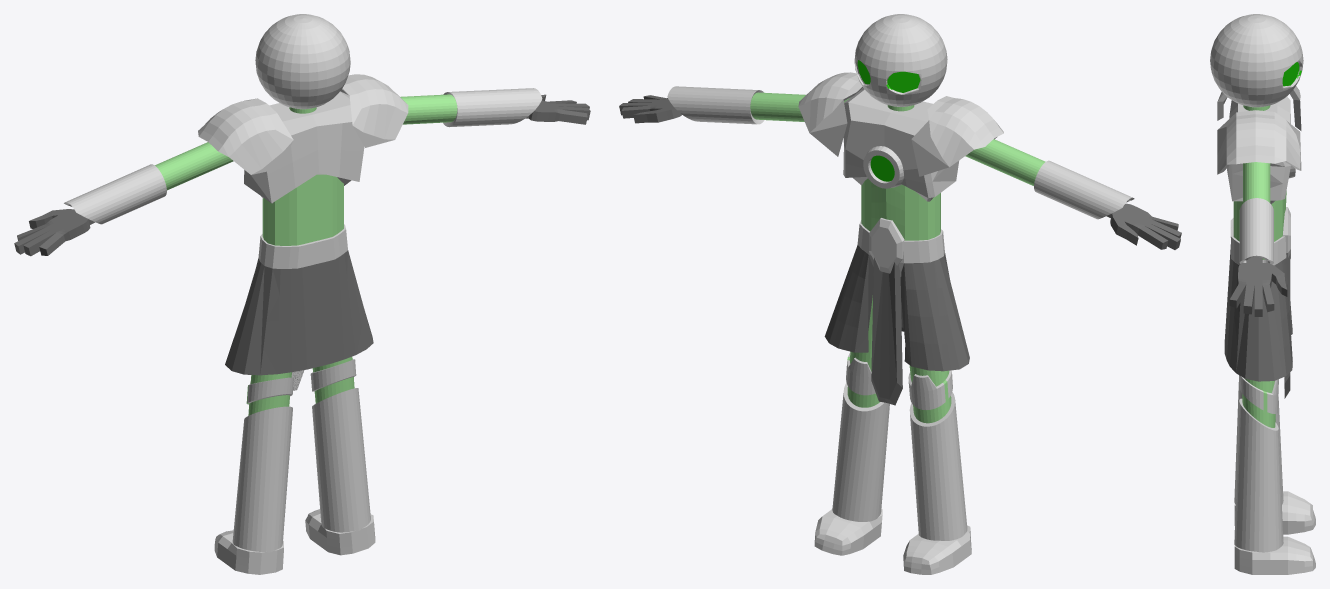
Rendered from HDThePaleOne.fbx.
The picture shows the model from 3 angles, left to right: view 1: azimuth 30°, elevation 25°; view 2: azimuth 150°, elevation 25°; view 3: azimuth 270°, elevation 25°; orthographic projection. The views are drawn at different scales.
Visible parts, largest first — view 1: Sphere; view 2: Sphere; view 3: Sphere.
Boxes of the visible parts, x1,y1,x2,y2 form: Sphere: [14, 14, 590, 574]; Sphere: [619, 14, 1181, 574]; Sphere: [1210, 14, 1315, 574].
Bounding box in the file's own units: 1383 × 1244 × 227.
